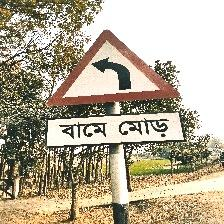Left-Turn: (44, 29, 184, 148)
